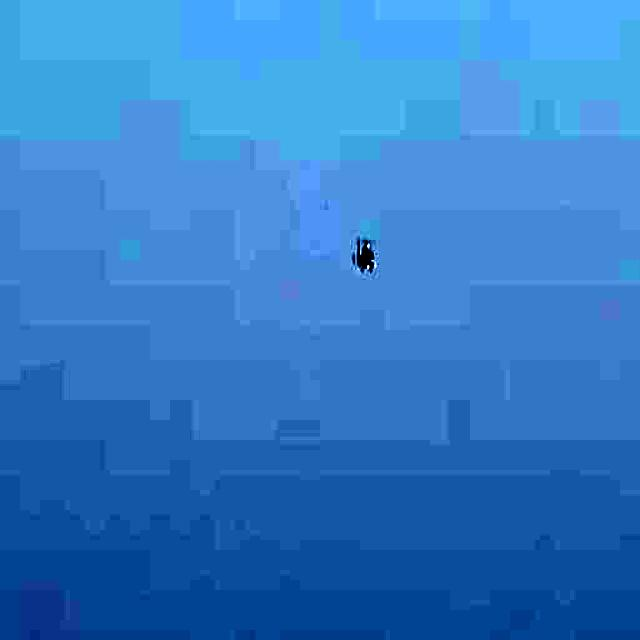drone: (352, 235, 379, 278)
